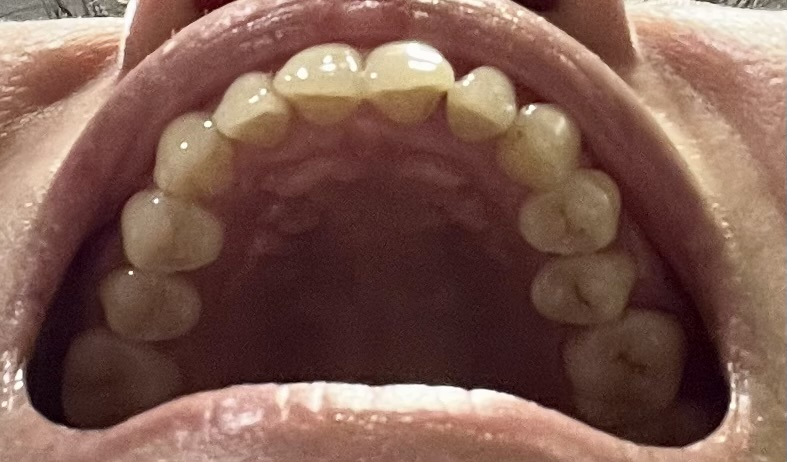teeth: (558, 312, 685, 427), (61, 329, 190, 430), (518, 165, 621, 254), (120, 192, 223, 270), (529, 251, 635, 326), (364, 37, 454, 124), (98, 268, 199, 345), (156, 111, 239, 201), (496, 101, 582, 187), (273, 43, 362, 122), (210, 70, 288, 149), (448, 65, 520, 141)
